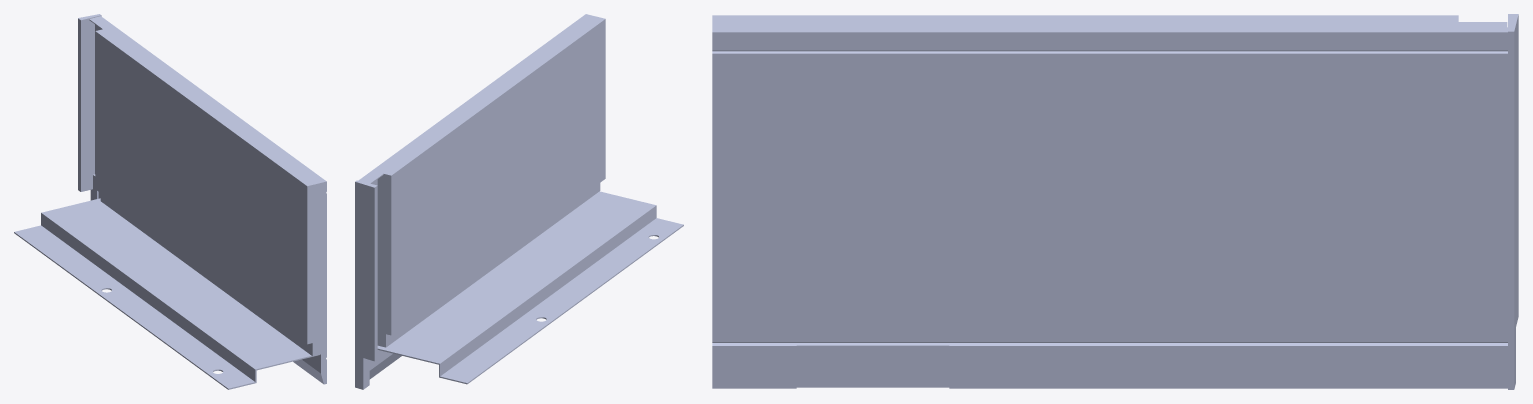
File: lg-kava-K270-m.glb
3 views of the same model, side by side, from view 1: azimuth 30°, elevation 25°; view 2: azimuth 150°, elevation 25°; view 3: azimuth 270°, elevation 25° (orthographic). The views are drawn at different scales.
Visible parts, largest first — view 1: 42431497; view 2: 42431497; view 3: 42431497.
Part boxes in pixels (x1,y1,x2,y2): 42431497: [14, 14, 326, 389]; 42431497: [355, 14, 683, 389]; 42431497: [712, 14, 1518, 389].
Bounding box in the file's own units: 0.0653 × 0.1292 × 0.2635.
